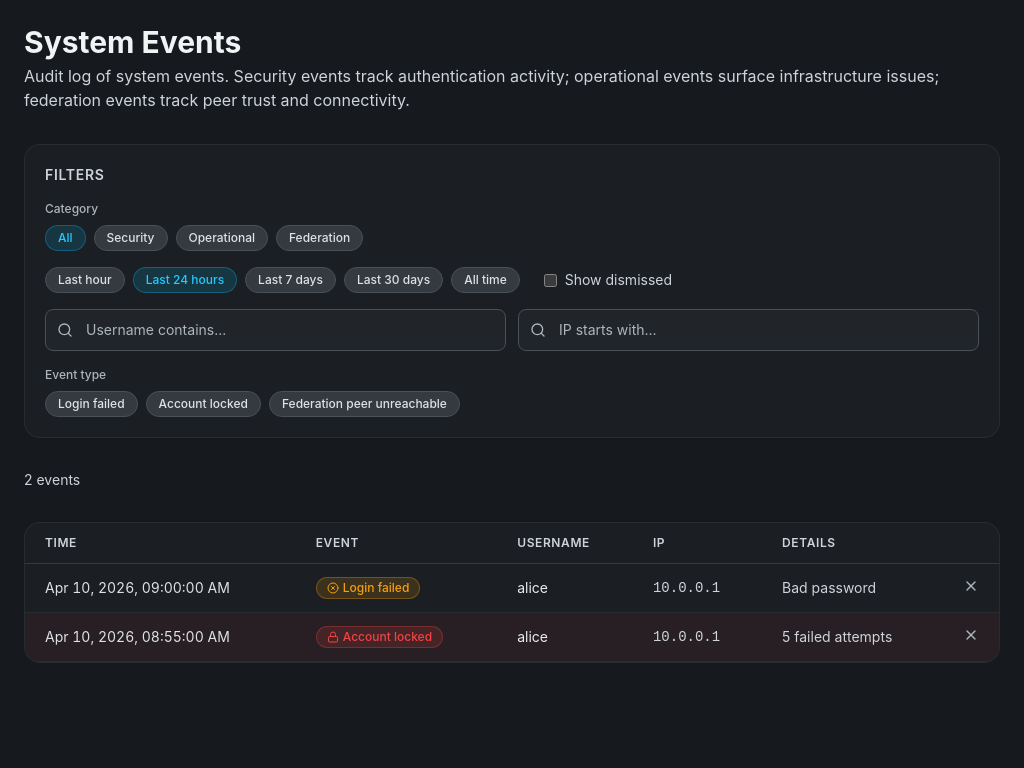
Test: AdminSystemEventsPage › clicking the IP pivot narrows the filters and closes the modal
This screenshot has width=1024, height=768.
Step 1. Click the row that starts with "Apr 10, 2026, 09:00:00 AM" → coordinates (512, 588), box [25, 564, 999, 612]
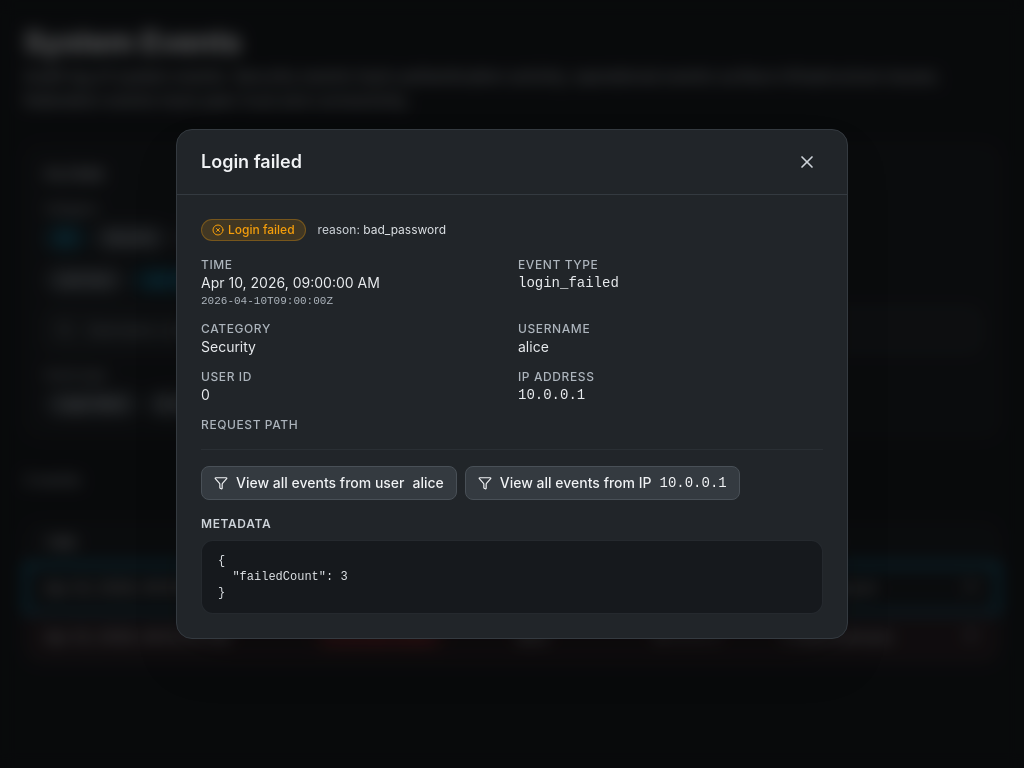
Check: the dialog is shown, box [176, 129, 848, 639]
Step 2. Click the button "View all events from IP 10.0.0.1" → coordinates (602, 483), box [465, 466, 740, 500]
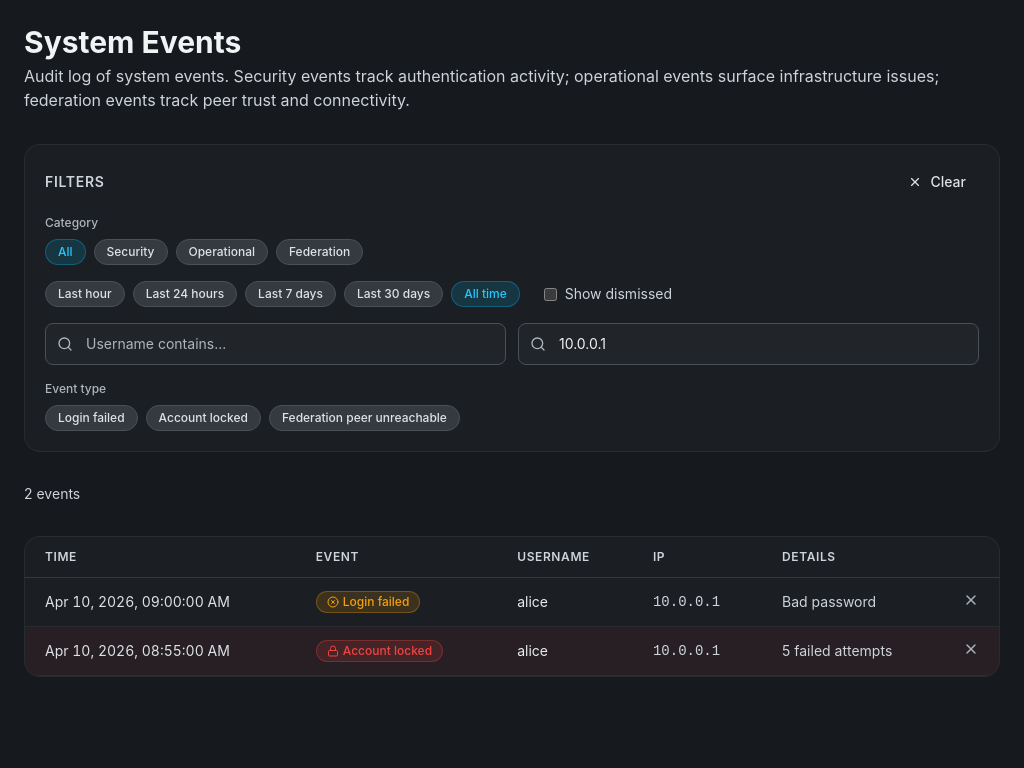
Check: the dialog is gone
